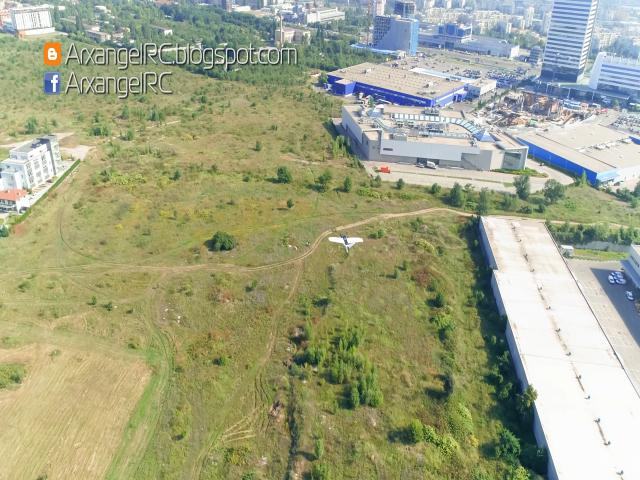plane: (328, 231, 364, 255)
